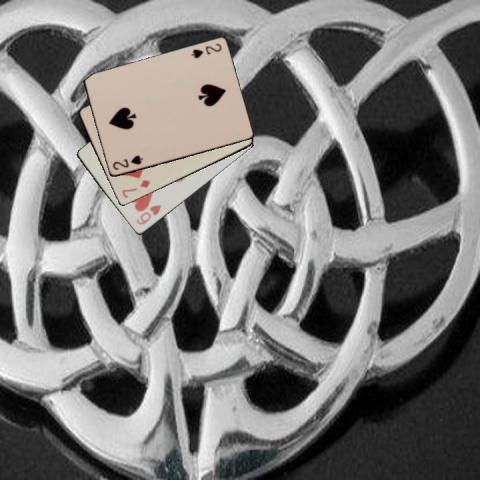2s: (188, 41, 223, 60), (109, 153, 144, 171)
6h: (133, 202, 163, 227)
7d: (119, 177, 151, 199)
